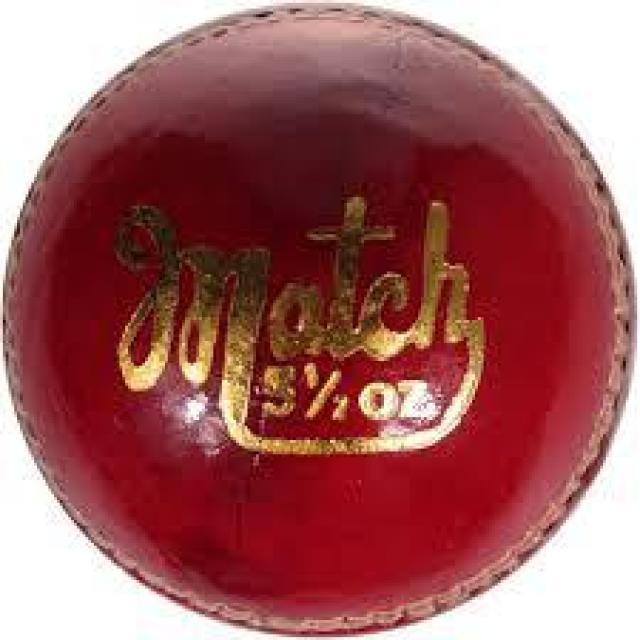ball: (2, 5, 637, 640)
